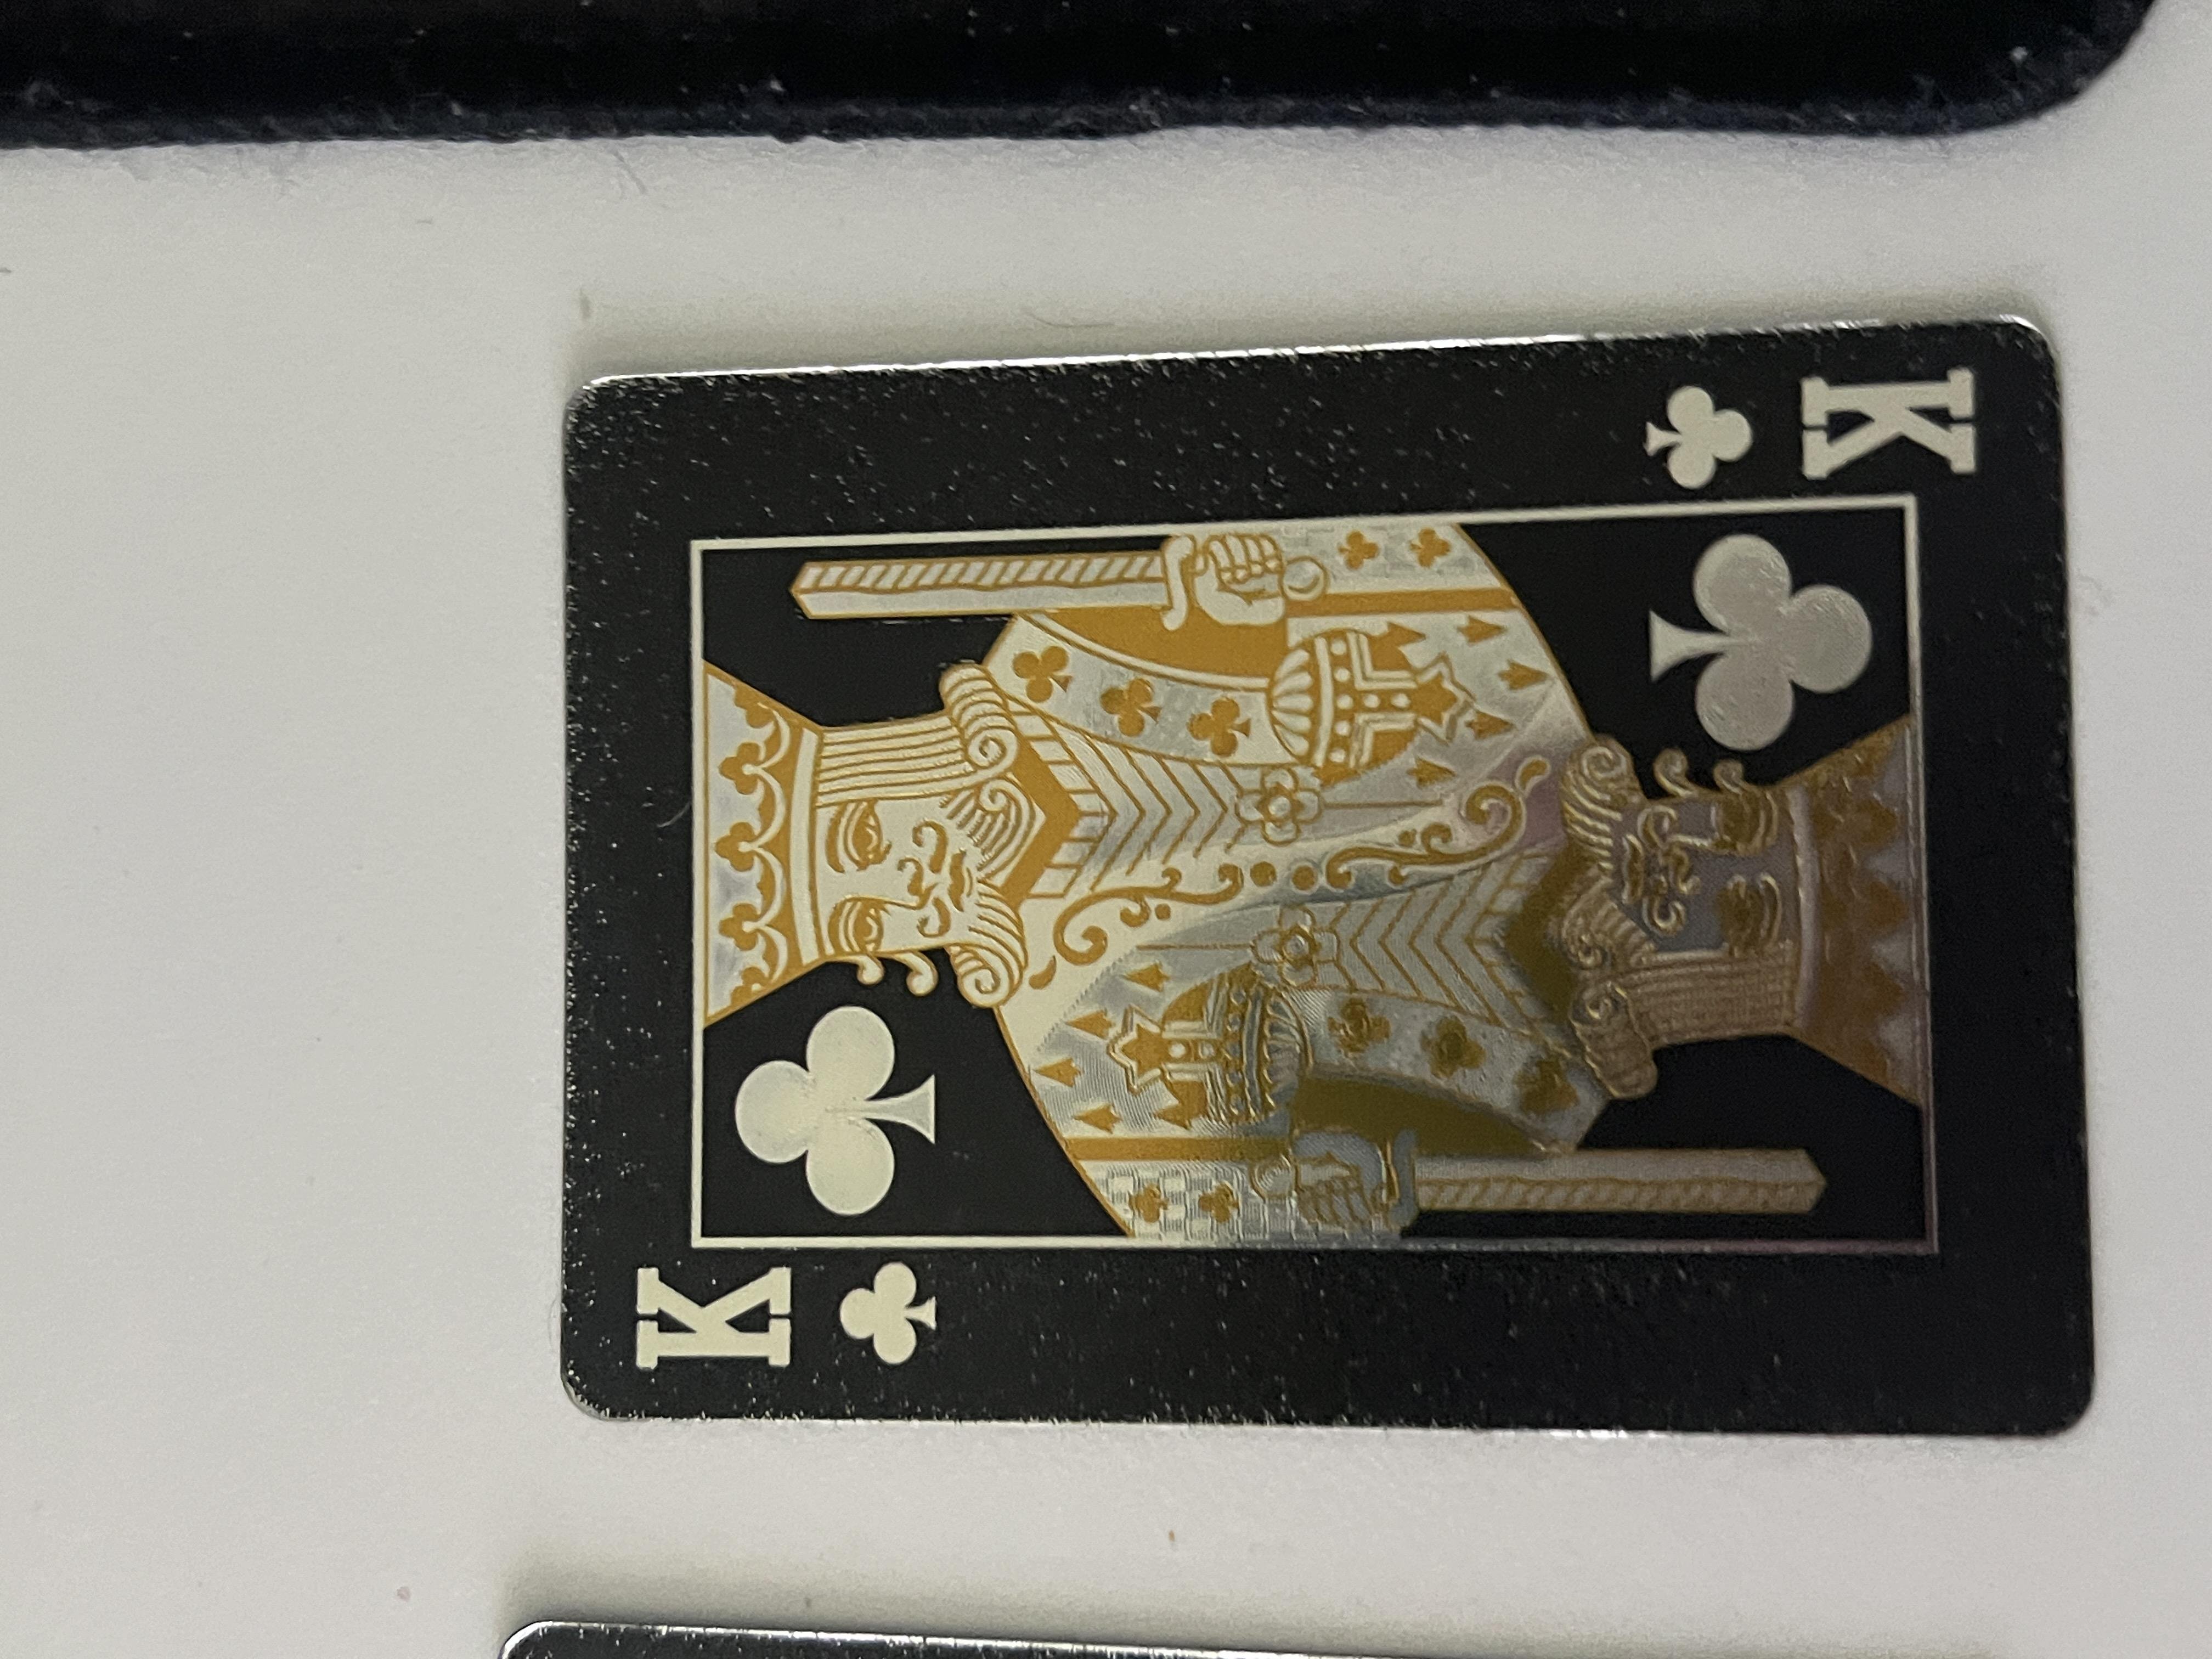KC: (1514, 1216, 1763, 1507), (352, 451, 549, 716)
